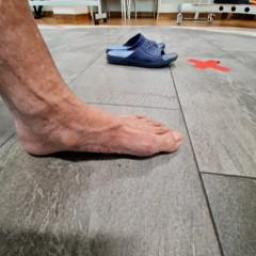Medial View -Left Foot-: (2, 70, 196, 180)
